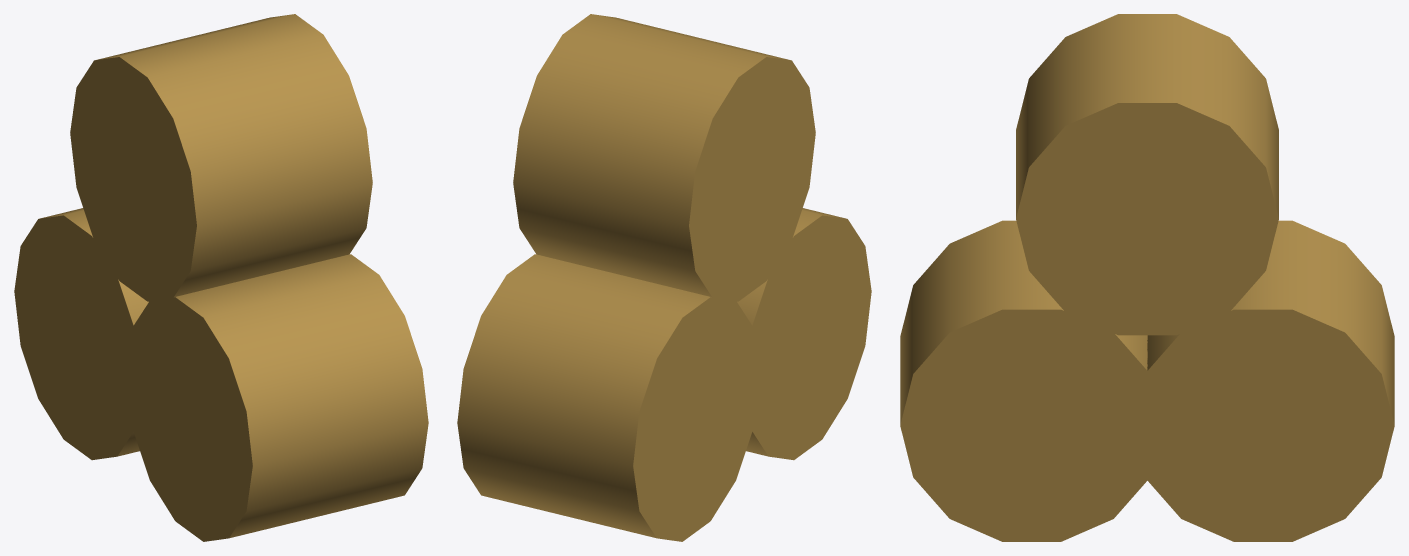
File: scatter3.fbx
3 views of the same model, side by side, from view 1: azimuth 30°, elevation 25°; view 2: azimuth 150°, elevation 25°; view 3: azimuth 270°, elevation 25° (orthographic). The views are drawn at different scales.
Visible parts, largest first — view 1: a1000/600/scatter3; view 2: a1000/600/scatter3; view 3: a1000/600/scatter3.
Boxes of the visible parts, box(x1,y1,x2,y2) form: a1000/600/scatter3: box(14, 14, 428, 541); a1000/600/scatter3: box(457, 14, 871, 541); a1000/600/scatter3: box(900, 14, 1394, 541).
Size of the model in its own units: 1.2 by 2.76 by 2.82.
